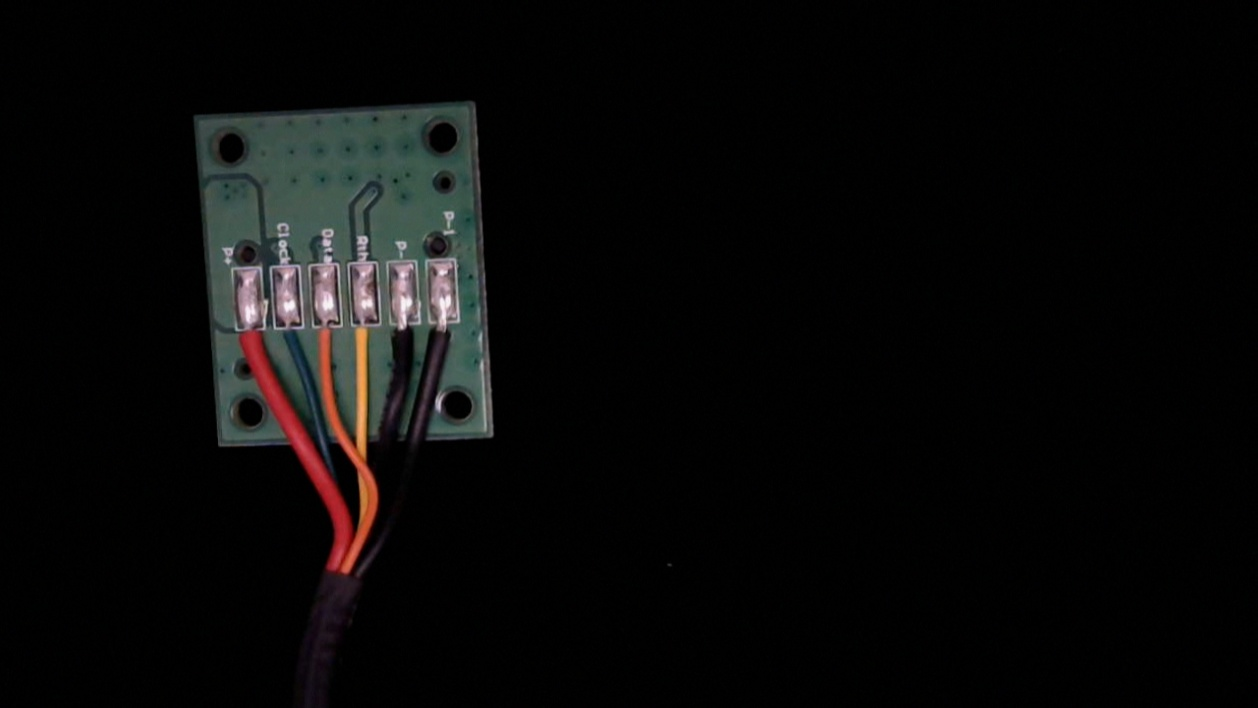Black: (388, 299, 423, 372)
Black1: (428, 300, 462, 367)
Green: (272, 307, 307, 376)
Orange: (311, 303, 344, 374)
Red: (233, 309, 268, 378)
Yellow: (346, 302, 381, 376)
